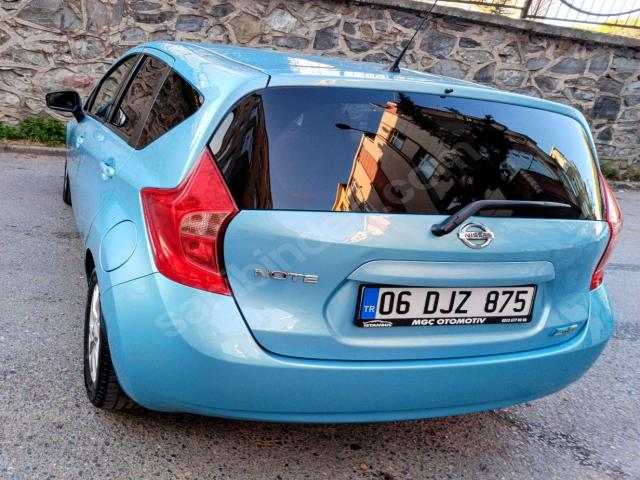plaka: (356, 285, 536, 326)
